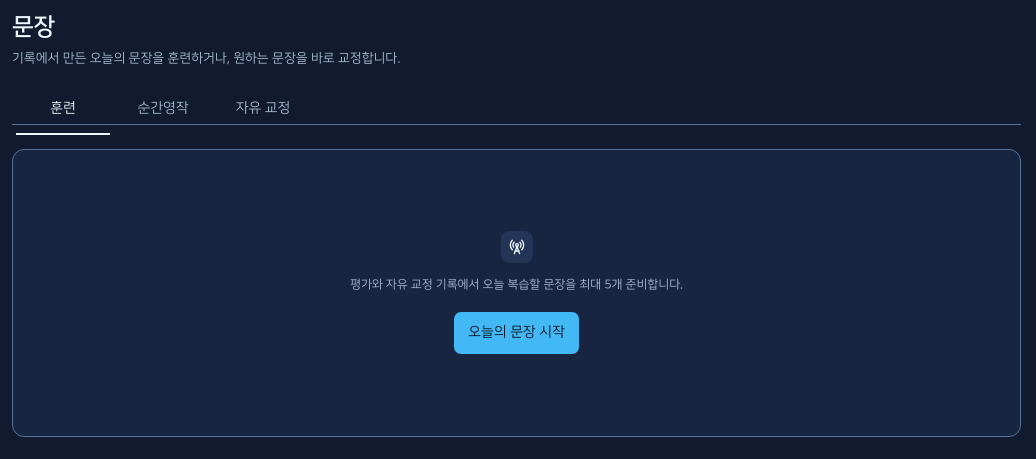
Test: CorrectPage default cli/model › keeps CLI selection but hides model selection on the correction screen
Click the tab "자유 교정": click(263, 108) top-left (215, 86), bottom-right (311, 130)
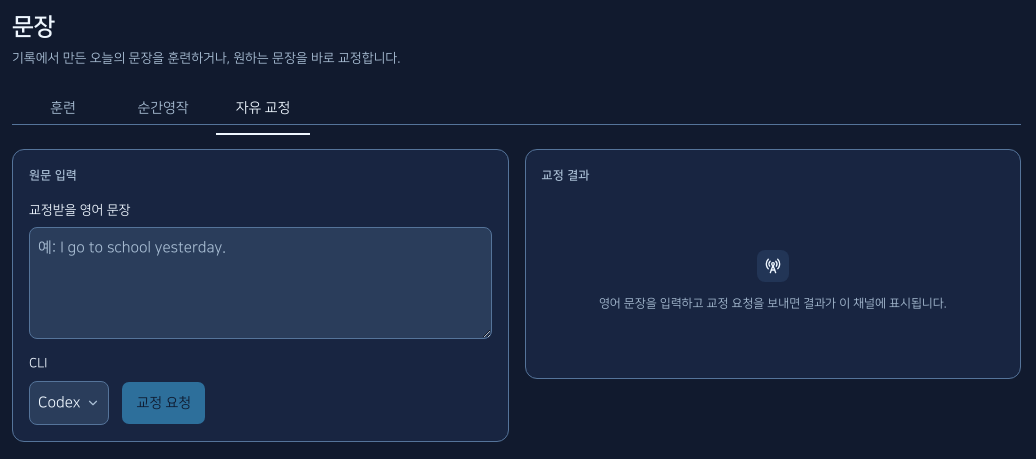
Check: the dropdown named "CLI 선택" is shown, box top-left (29, 381), bottom-right (110, 425)
